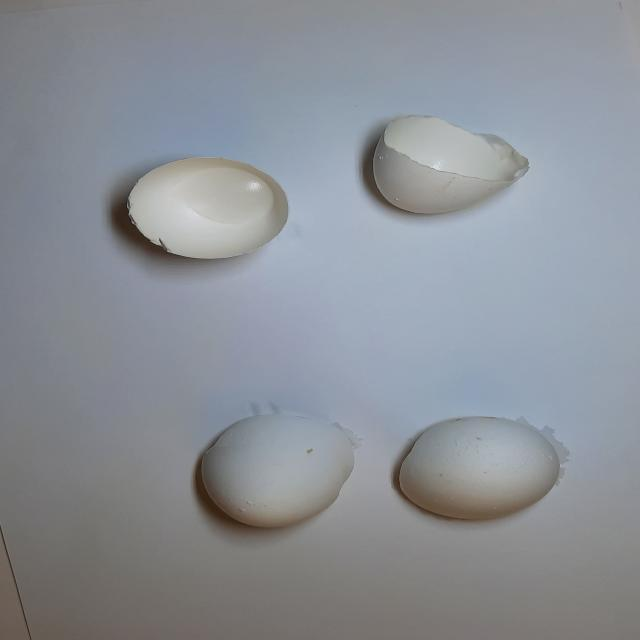egg shell: (377, 404, 580, 550), (180, 391, 377, 538), (105, 140, 303, 282), (352, 100, 557, 230)
